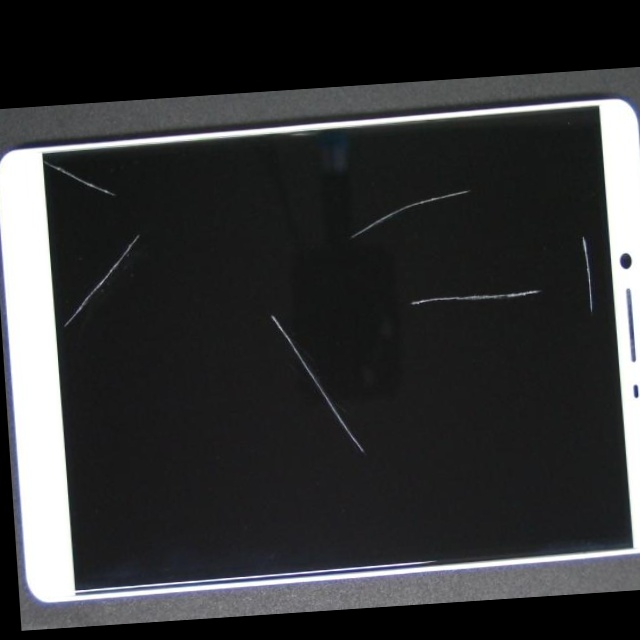scratch: (71, 115, 443, 528), (294, 262, 640, 424)
